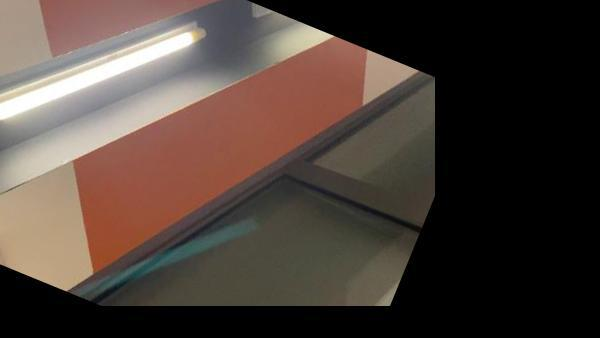light_on: (0, 0, 230, 211)
